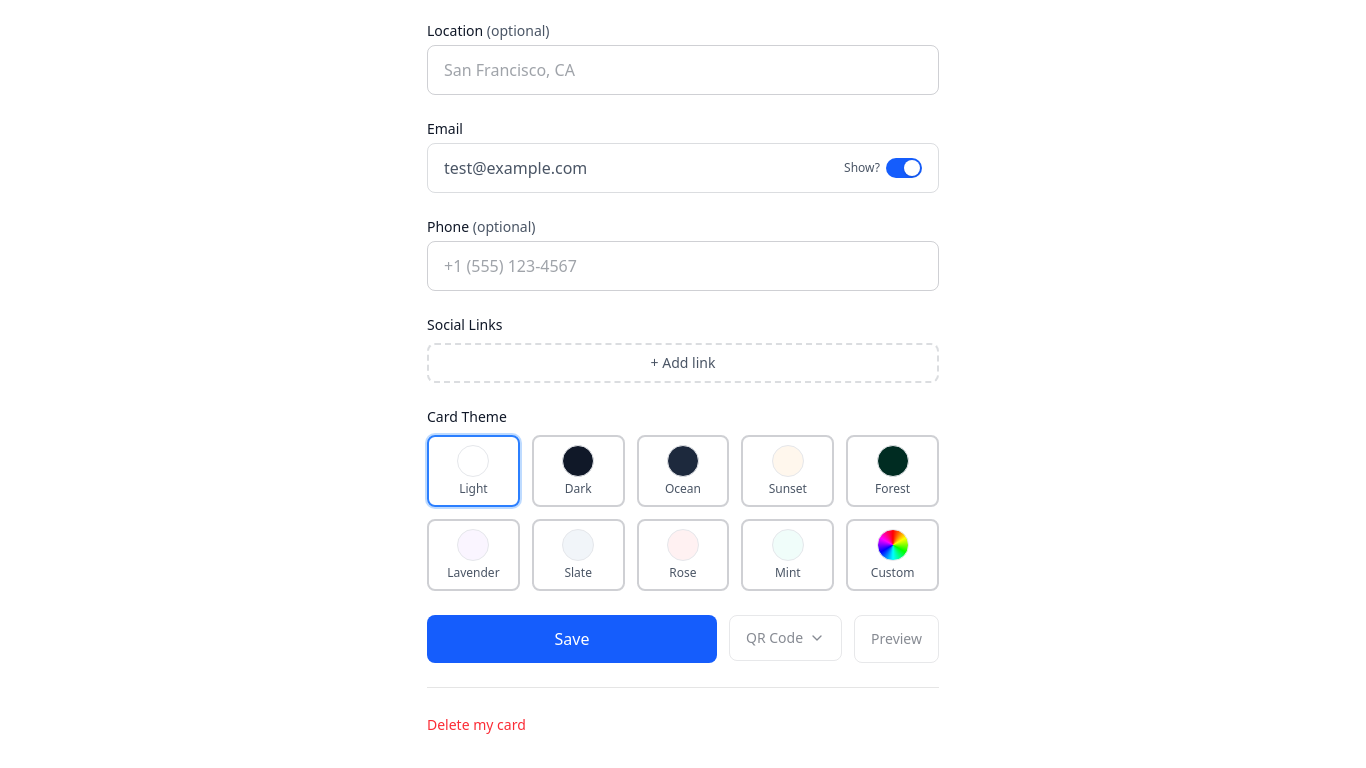
Test: EditProfilePage custom theme › opens the custom theme modal from the theme picker instead of selecting immediately
The image size is (1366, 768).
(page scrolled)
Click the button with aria-label "Choose custom theme colors" at (893, 555), box [846, 519, 939, 591]
(page scrolled)
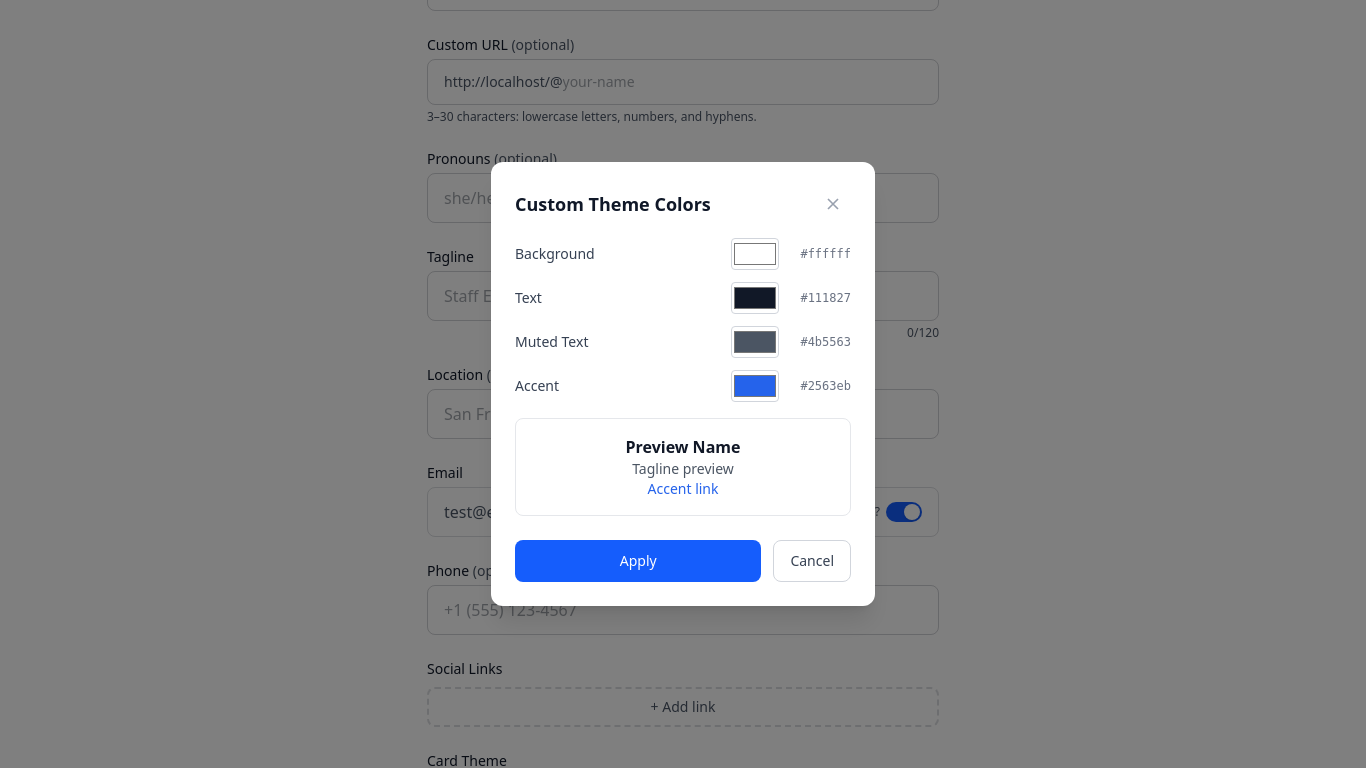
Now the dialog "Custom Theme Colors" is shown
